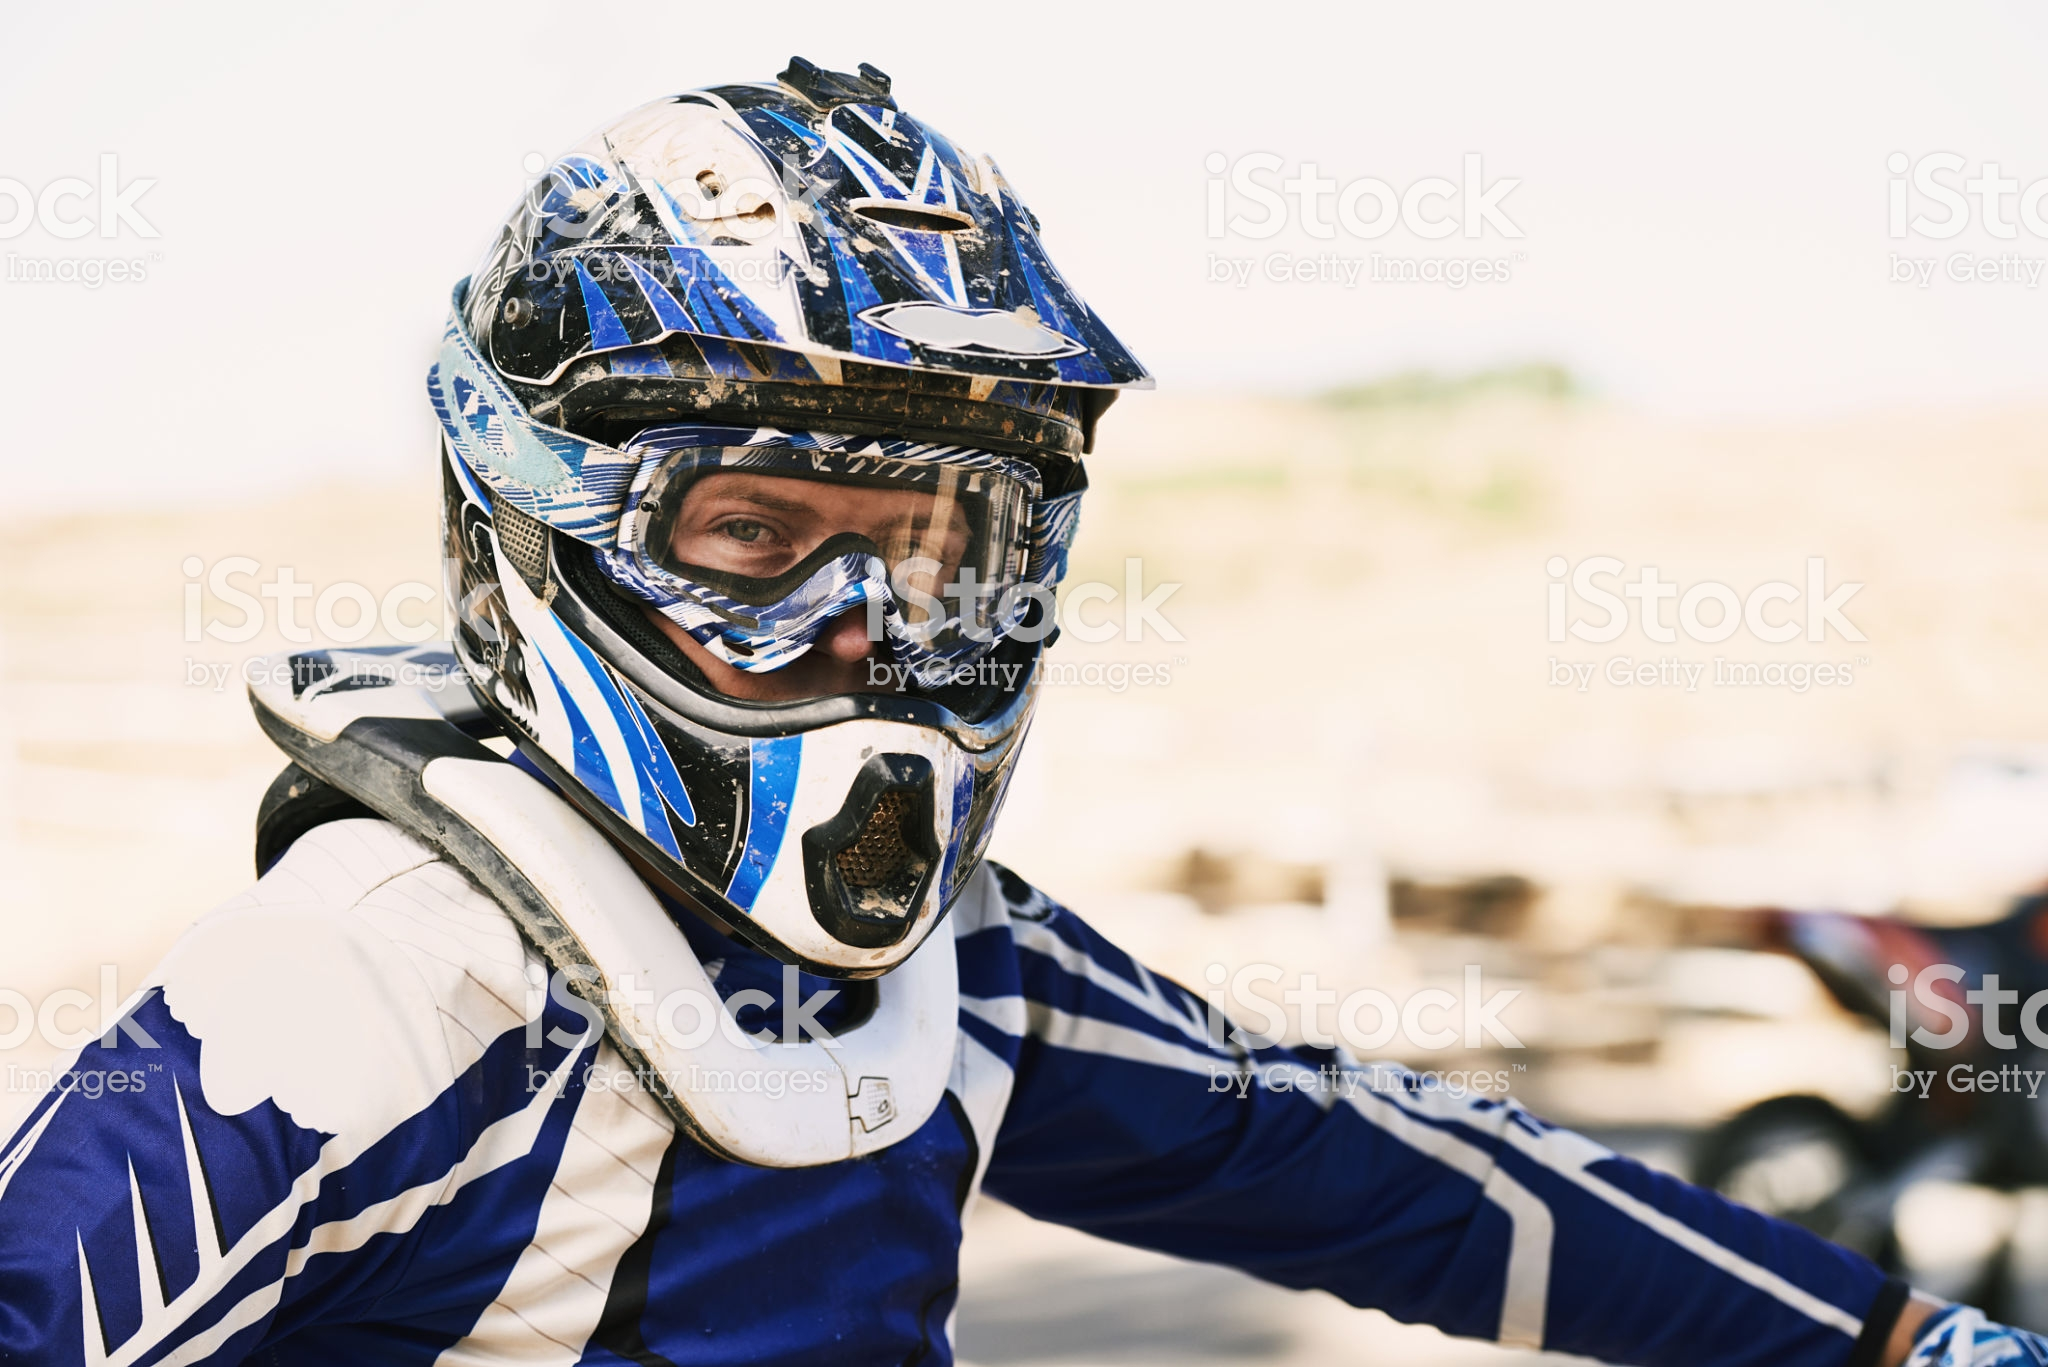helmet: (435, 121, 1098, 992)
